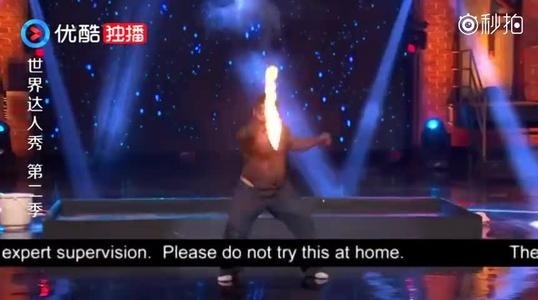fire: (257, 64, 286, 148)
